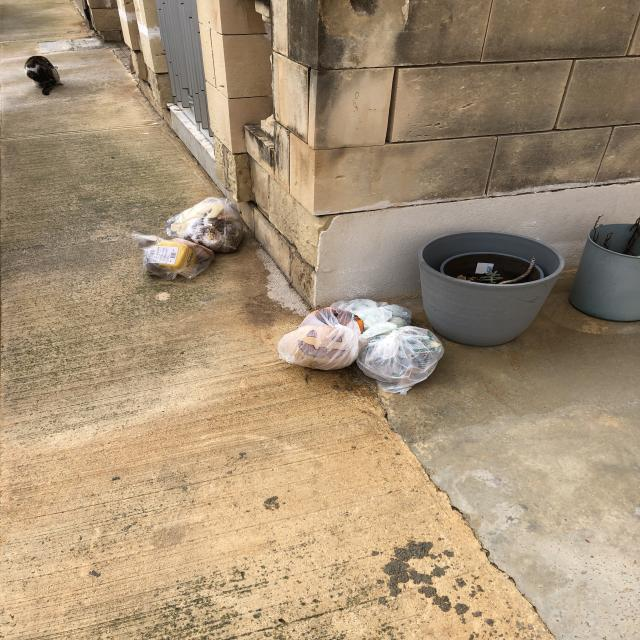Organic Waste -White Bag-: (358, 327, 449, 400), (278, 310, 366, 372), (124, 231, 220, 283), (169, 195, 252, 255), (347, 300, 414, 342)
